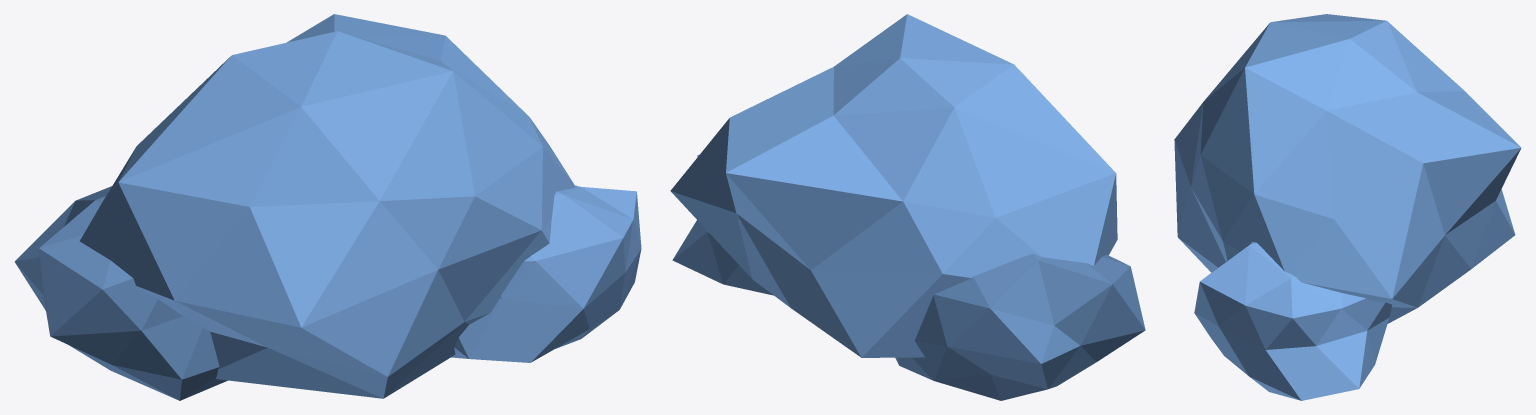
The model's file is t4_rock_full.glb.
3 views of the same model, side by side, from view 1: azimuth 30°, elevation 25°; view 2: azimuth 150°, elevation 25°; view 3: azimuth 270°, elevation 25° (orthographic). The views are drawn at different scales.
Parts seen in each view (by area): view 1: CenterRock, LeftRock, RightRock; view 2: CenterRock, LeftRock, RightRock; view 3: CenterRock, RightRock.
Boxes of the visible parts, bbox=[...] form: CenterRock: bbox=[80, 14, 575, 398]; LeftRock: bbox=[14, 186, 227, 400]; RightRock: bbox=[451, 185, 641, 362]; CenterRock: bbox=[670, 14, 1117, 357]; LeftRock: bbox=[895, 254, 1145, 400]; RightRock: bbox=[672, 154, 773, 295]; CenterRock: bbox=[1174, 14, 1521, 323]; RightRock: bbox=[1194, 242, 1391, 400].
Size of the model in its own units: 1.55 by 0.8681 by 0.9954.
